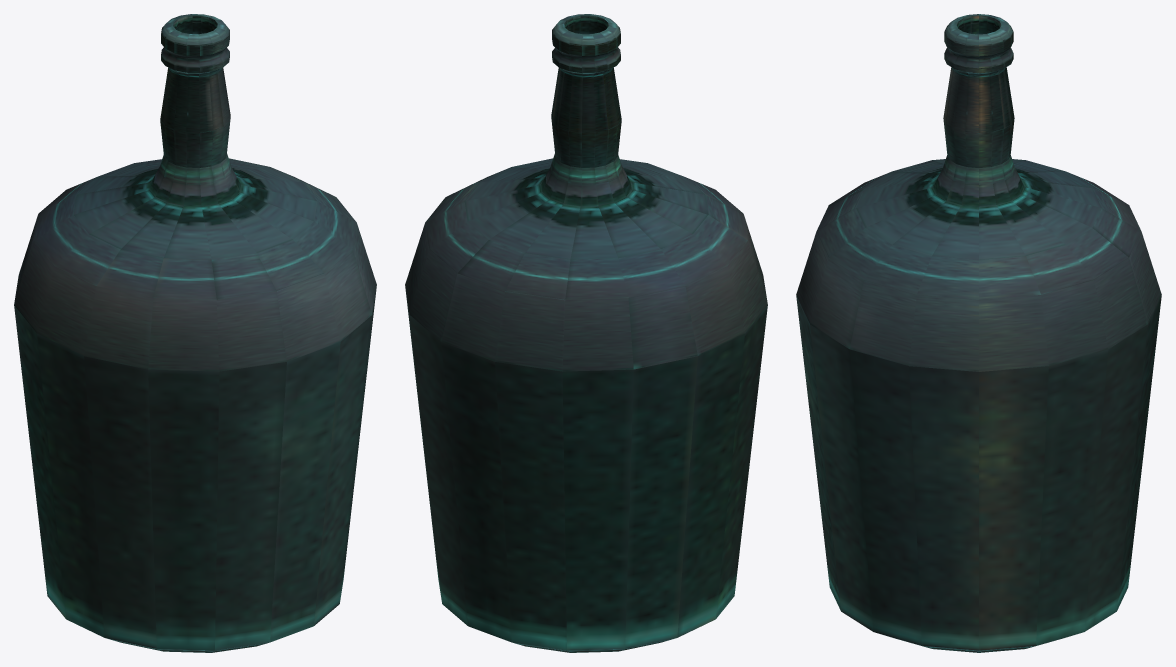
File: jug02.fbx
3 renders of one model, left to right at view 1: azimuth 30°, elevation 25°; view 2: azimuth 150°, elevation 25°; view 3: azimuth 270°, elevation 25°, orthographic.
Parts seen in each view (by area): view 1: bottle02; view 2: bottle02; view 3: bottle02.
Part boxes in pixels (x1,y1,x2,y2): bottle02: (14, 14, 376, 652); bottle02: (405, 14, 767, 652); bottle02: (796, 14, 1161, 652).
Size of the model in its own units: 0.4017 by 0.4017 by 0.6988.
1 material, 1 textured.
